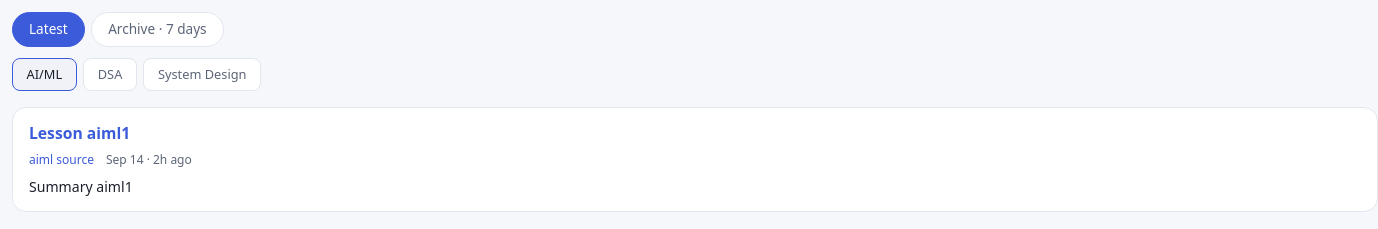
Test case: KnowledgeFeed — series filtering › shows the empty state when no lessons have been ingested for a series yet
Step 1. Click the tab "DSA" → click(110, 75), box [83,58,137,91]
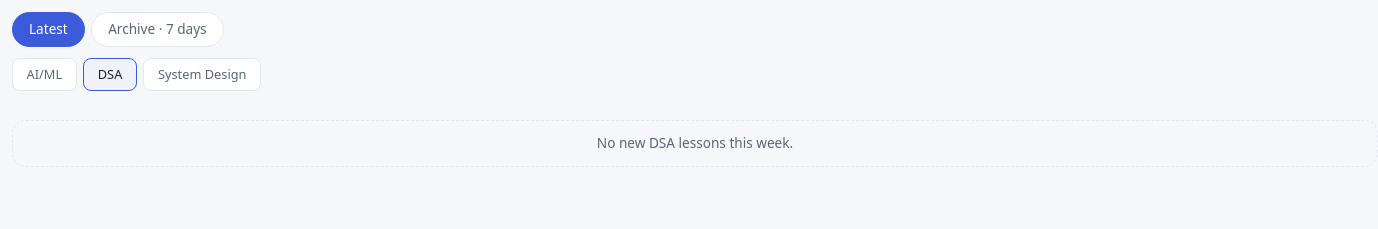
Check: the text "No new DSA lessons this week." is shown, box [12,120,1377,167]
